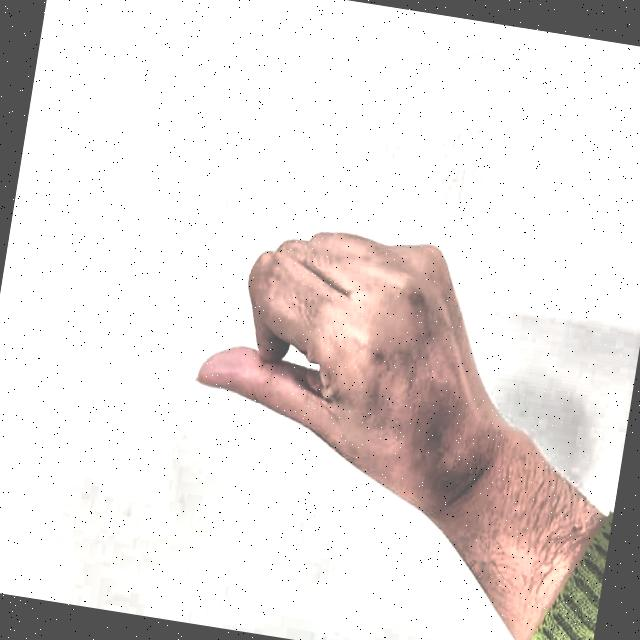Ay: (160, 163, 490, 542)
